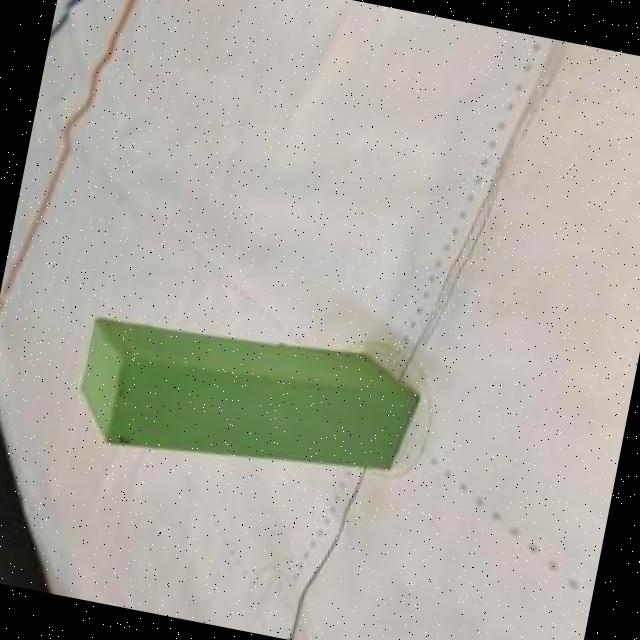greenbox: (69, 297, 420, 498)
